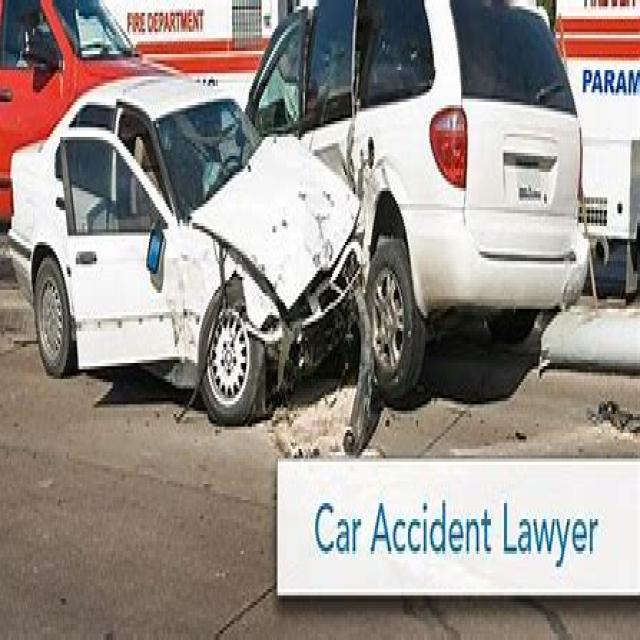Accident: (145, 18, 480, 468)
